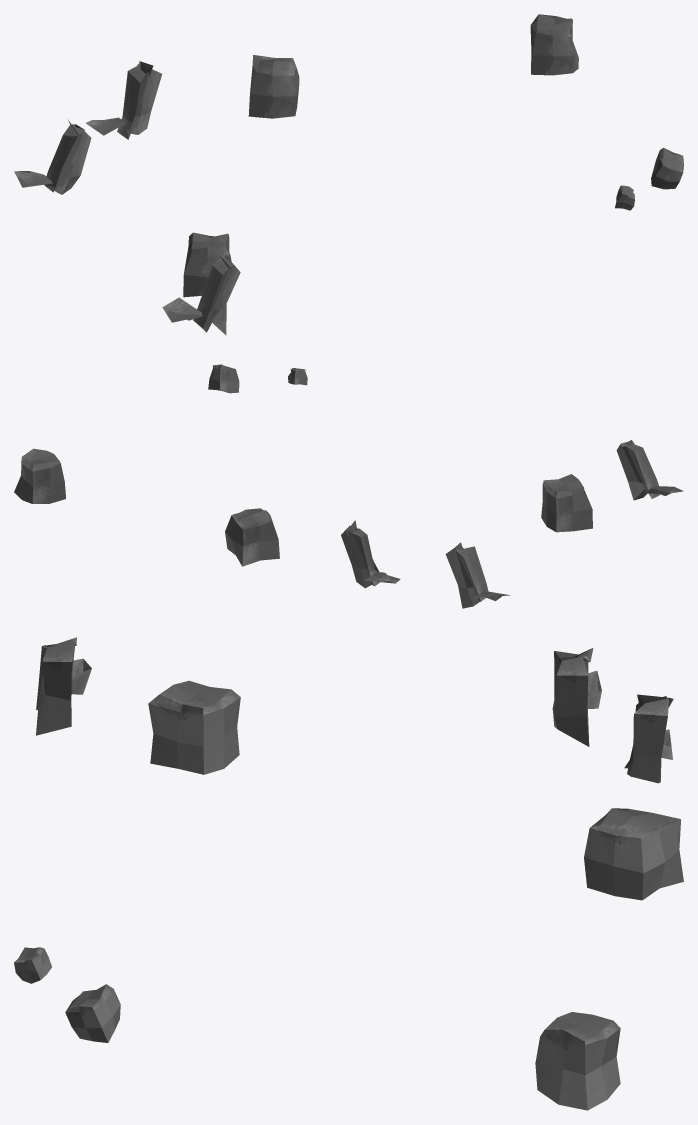
The model's file is pedras-parte-final.glb.
3 renders of one model, top to bottom at view 1: azimuth 30°, elevation 25°; view 2: azimuth 150°, elevation 25°; view 3: azimuth 270°, elevation 25°, orthographic. The views are drawn at different scales.
Visible parts, largest first — view 1: Cube.004-col, Cube.007-col, Cube.008-col, Cube.001-col, Cube.002-col, Cube.005-col, Cube.003-col; view 2: Cube.005-col, Cube.004-col, Cube.008-col, Cube.002-col, Cube.007-col, Cube.001-col, Cube.003-col; view 3: Cube.004-col, Cube.005-col, Cube.008-col, Cube.007-col, Cube.002-col, Cube.001-col, Cube.003-col, Cube.006-col.
Part boxes in pixels (x1,y1,x2,y2): Cube.004-col: (248,55,299,118); Cube.007-col: (162,254,240,335); Cube.008-col: (530,14,578,75); Cube.001-col: (85,61,161,139); Cube.002-col: (14,120,91,194); Cube.005-col: (183,232,231,297); Cube.003-col: (651,147,683,189); Cube.005-col: (541,474,592,532); Cube.004-col: (225,508,279,566); Cube.008-col: (14,448,65,503); Cube.002-col: (445,542,509,608); Cube.007-col: (616,440,683,500); Cube.001-col: (341,520,400,588); Cube.003-col: (208,364,239,393); Cube.004-col: (584,808,683,900); Cube.005-col: (148,680,240,774); Cube.008-col: (535,1012,620,1110); Cube.007-col: (36,637,91,735); Cube.002-col: (552,648,601,746); Cube.001-col: (624,694,673,783); Cube.003-col: (65,984,120,1042); Cube.006-col: (14,947,51,983).
Size of the model in its own units: 31.71 by 4.69 by 21.
1 material, 1 textured.
